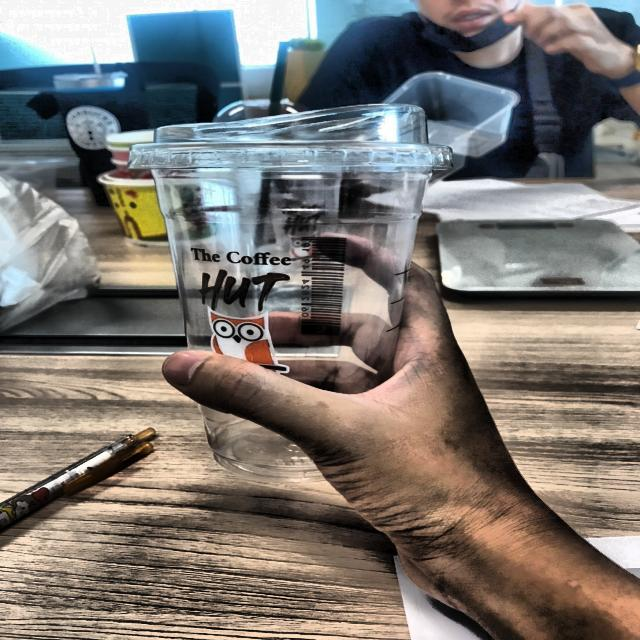plastic cup: (134, 99, 462, 487)
